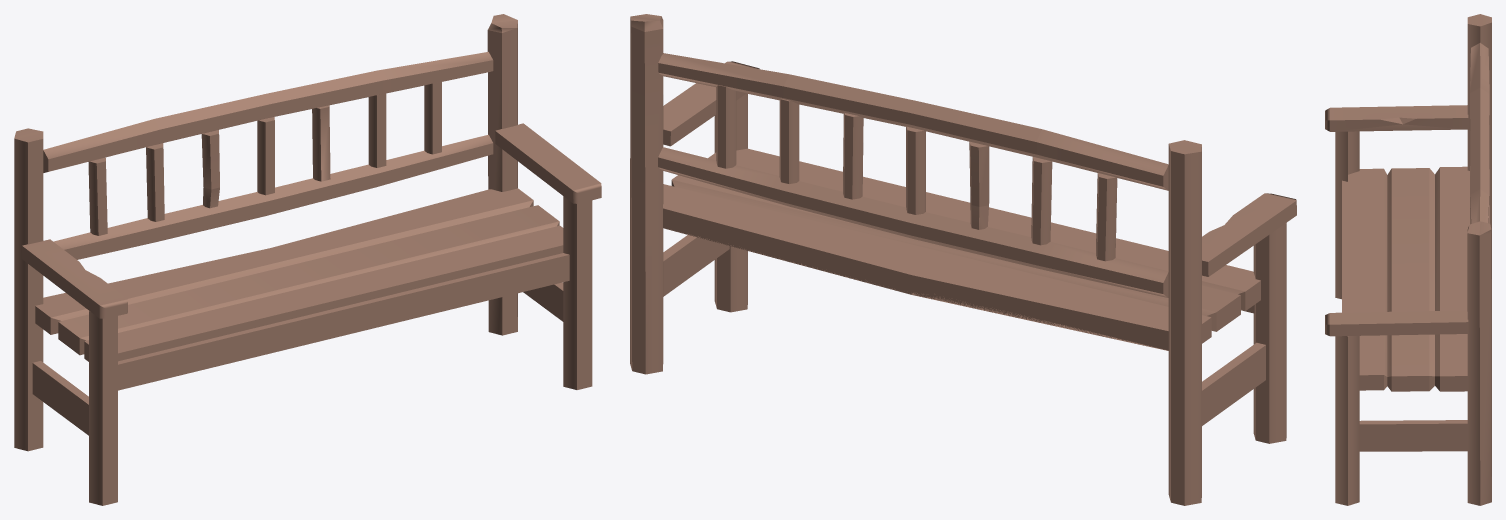
File: Bench_01.fbx
3 renders of one model, left to right at view 1: azimuth 30°, elevation 25°; view 2: azimuth 150°, elevation 25°; view 3: azimuth 270°, elevation 25°, orthographic. The views are drawn at different scales.
Visible parts, largest first — view 1: SM_Prop_Bench_01; view 2: SM_Prop_Bench_01; view 3: SM_Prop_Bench_01.
Boxes of the visible parts, <box> form: SM_Prop_Bench_01: <box>14,14,601,505</box>; SM_Prop_Bench_01: <box>630,14,1296,505</box>; SM_Prop_Bench_01: <box>1325,14,1491,505</box>.
Bounding box in the file's own units: 193 × 113 × 62.46.
